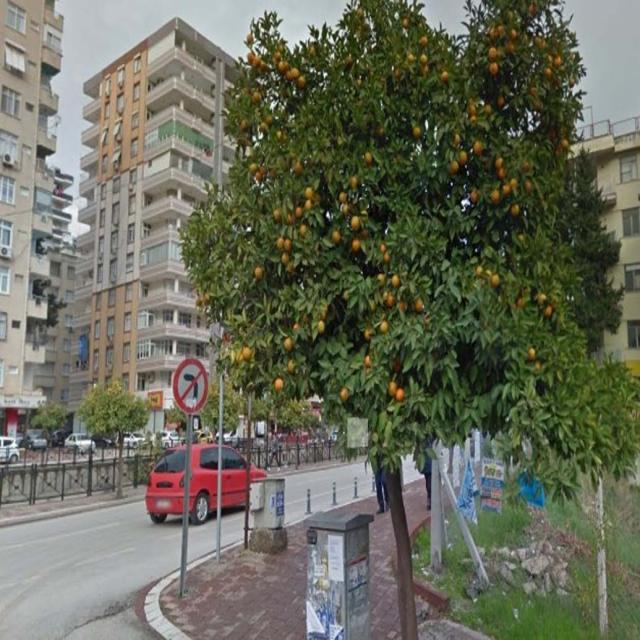soladonulmez: (171, 356, 209, 413)
